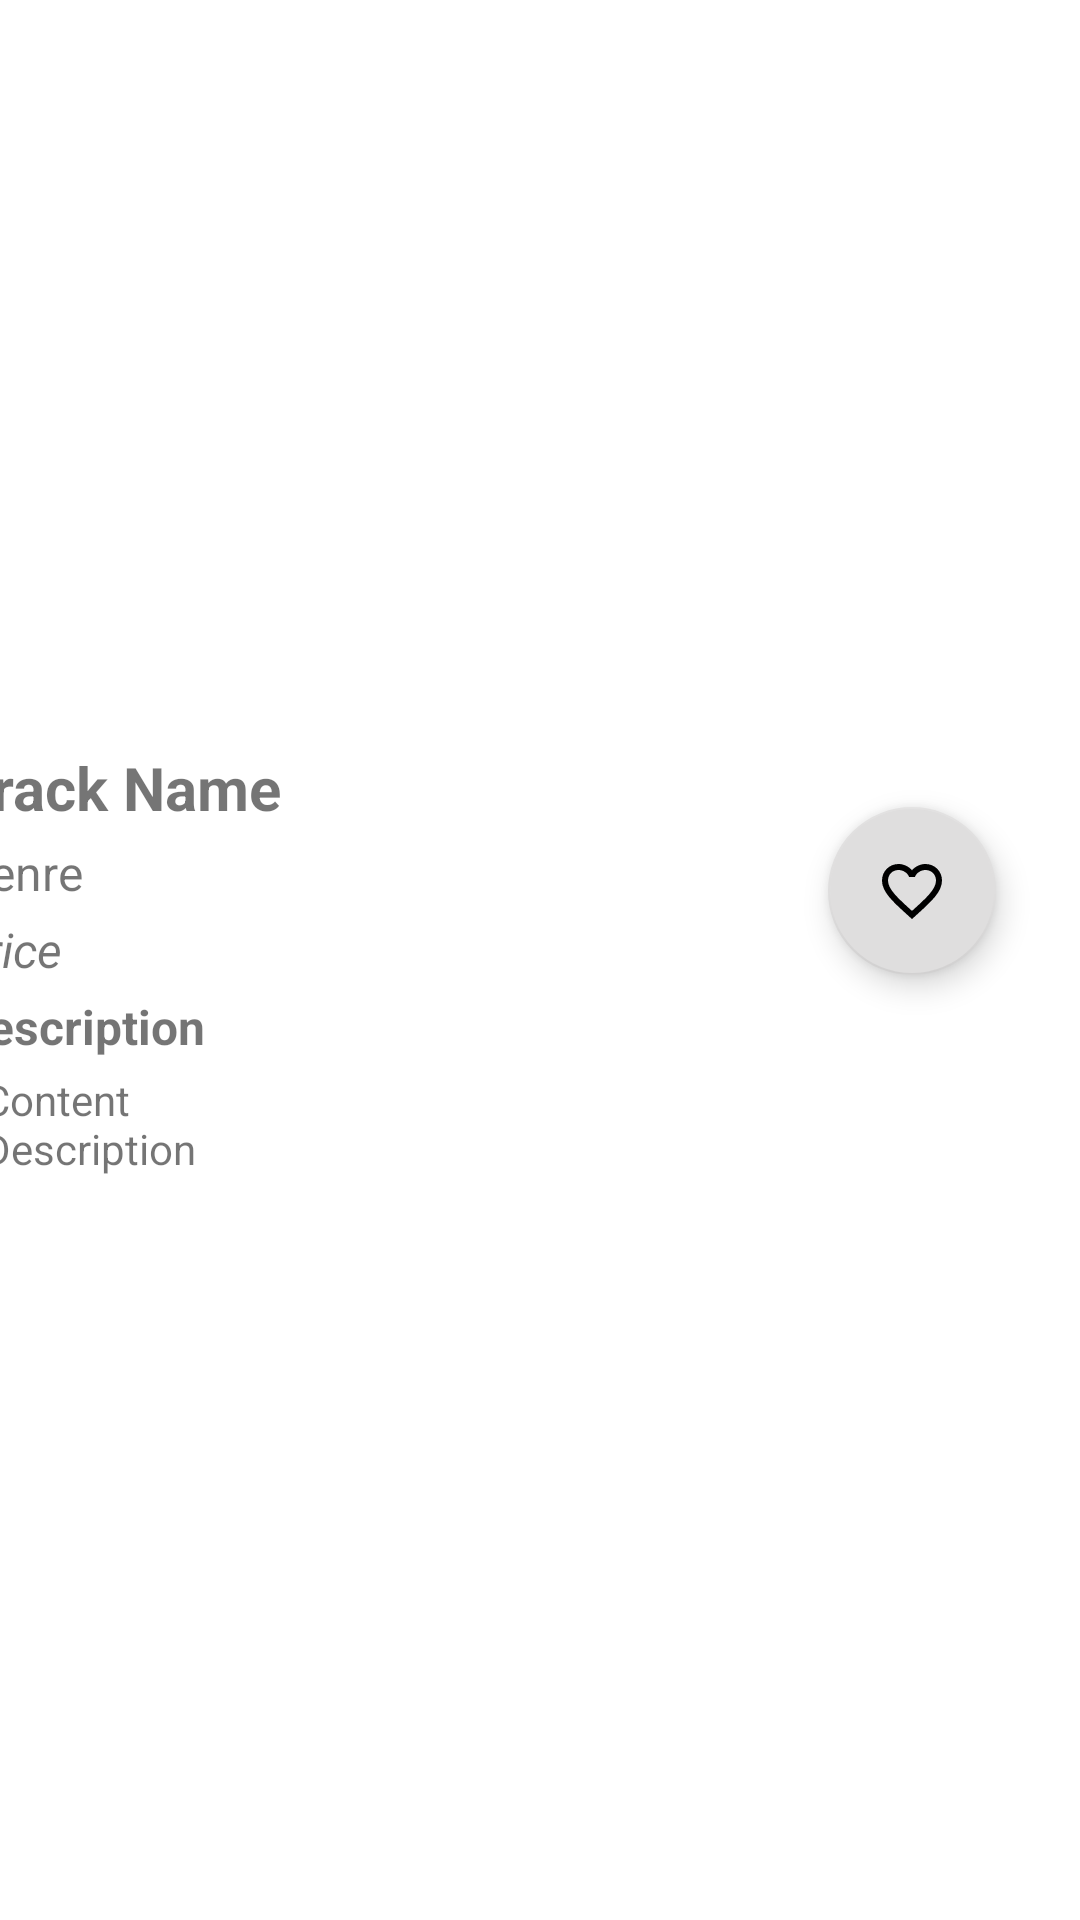

Icons on this 1080 × 1920 Android screen, each with its box as (x1=x1, y1=y1, x2=x2, y2=y2):
favorite: (x1=828, y1=807, x2=996, y2=975)
